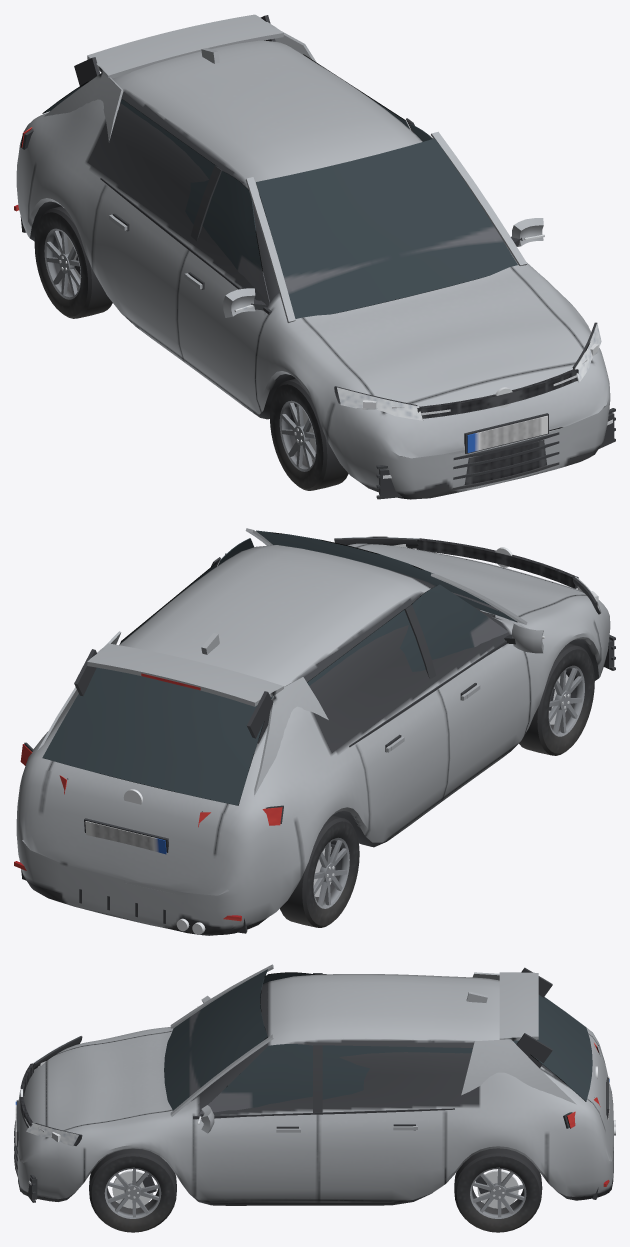
The model's file is CarHatch.fbx.
3 renders of one model, top to bottom at view 1: azimuth 30°, elevation 25°; view 2: azimuth 150°, elevation 25°; view 3: azimuth 270°, elevation 25°, orthographic. The views are drawn at different scales.
Parts seen in each view (by area): view 1: CarHatch; view 2: CarHatch; view 3: CarHatch.
Part boxes in pixels (left/top/right/bottom): CarHatch: left=14, top=14, right=615, bottom=499; CarHatch: left=14, top=528, right=615, bottom=935; CarHatch: left=14, top=964, right=615, bottom=1232.
Size of the model in its own units: 205 by 150 by 432.
1 material, 1 textured.
